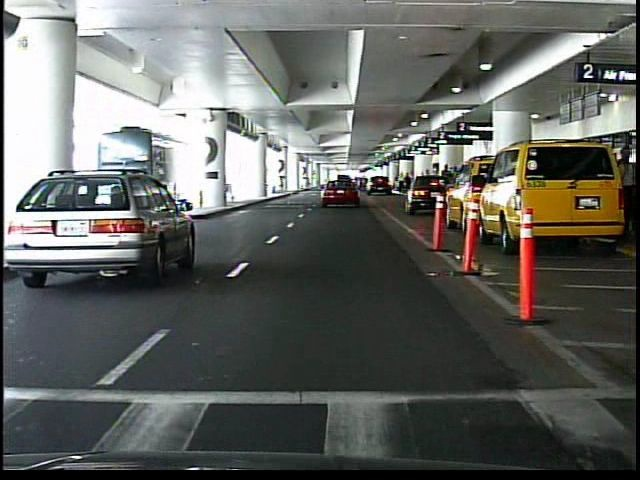person: (439, 161, 456, 212), (397, 171, 406, 193), (404, 172, 412, 194)
